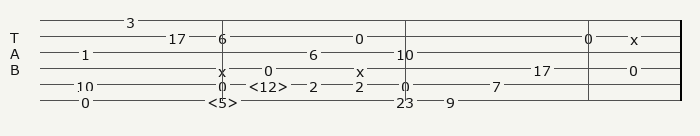0: (81, 93, 94, 107), (218, 77, 231, 91), (264, 61, 277, 75), (355, 29, 368, 43), (401, 77, 414, 91), (584, 29, 597, 43), (629, 61, 642, 75)
1: (81, 45, 94, 59)
10: (76, 77, 98, 91), (396, 45, 418, 59)
17: (168, 29, 190, 43), (533, 61, 555, 75)
2: (309, 77, 322, 91), (355, 77, 368, 91)
23: (396, 93, 418, 107)
3: (126, 13, 139, 27)
6: (218, 29, 231, 43), (309, 45, 322, 59)
7: (492, 77, 505, 91)
9: (446, 93, 459, 107)
harmonic: (248, 77, 292, 91), (207, 93, 242, 107)
x: (218, 62, 230, 74), (356, 62, 368, 74), (630, 30, 642, 42)
